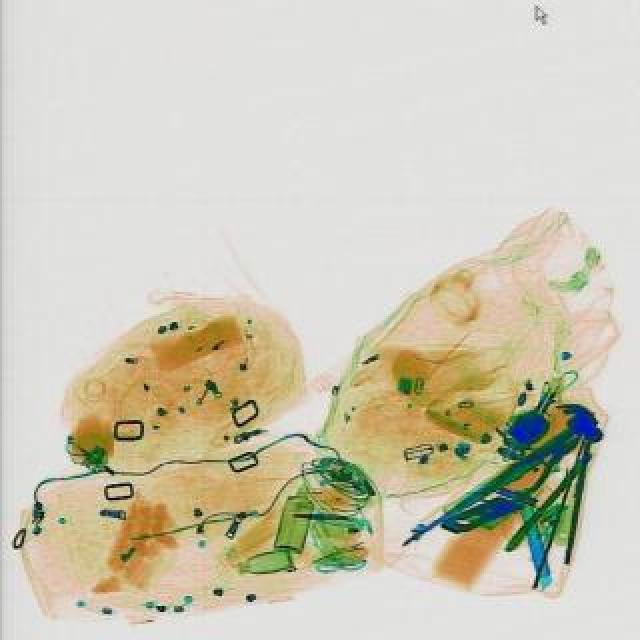wrench: (482, 418, 588, 510)
